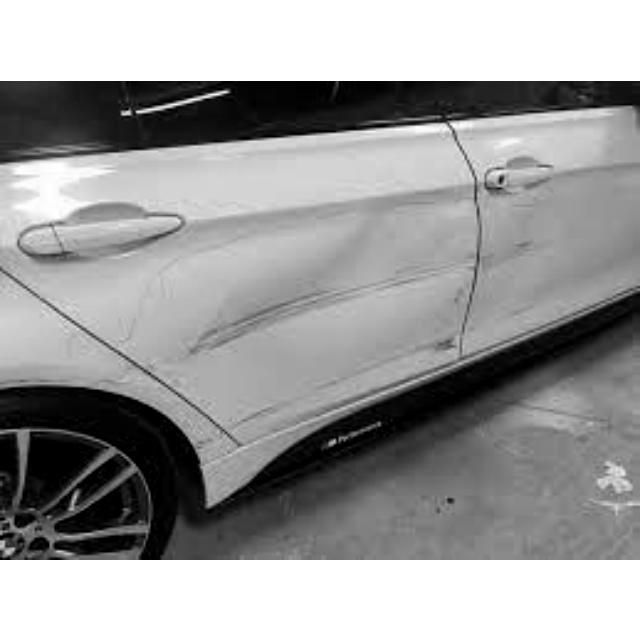doorouter-dent: (21, 142, 460, 394), (468, 107, 633, 351)
